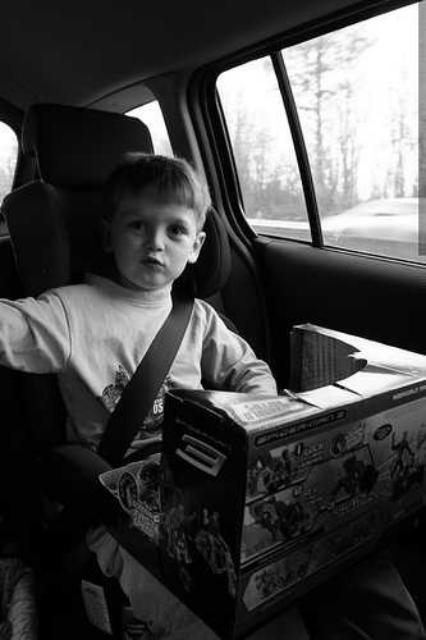SafeDriving: (162, 214, 192, 241), (124, 212, 154, 236)
Seatbelt: (96, 289, 196, 465)
